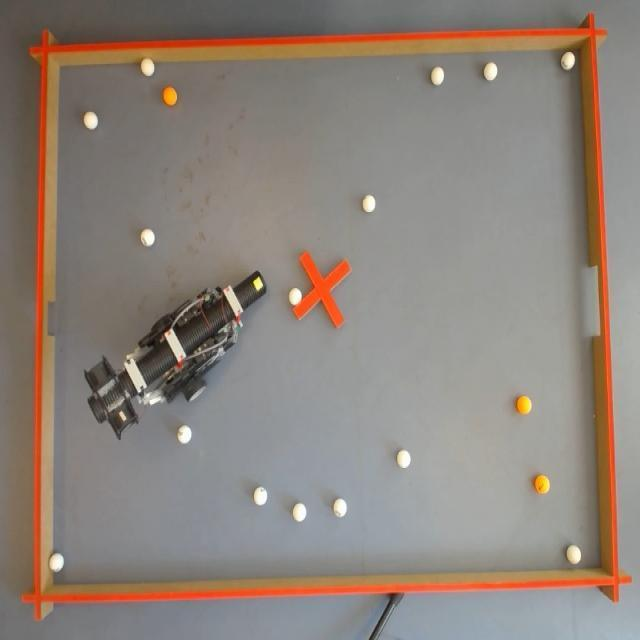orange: (162, 86, 178, 106), (536, 474, 550, 494), (518, 396, 532, 414)
robot: (82, 270, 264, 442)
white: (292, 502, 308, 524), (176, 424, 191, 446), (483, 60, 497, 82), (254, 485, 268, 507), (560, 51, 576, 70), (333, 498, 347, 518), (568, 545, 582, 564), (85, 112, 98, 132), (364, 193, 377, 213), (140, 229, 154, 247), (290, 287, 302, 307), (398, 450, 411, 468), (50, 552, 63, 570), (140, 57, 152, 76), (432, 66, 444, 84)
